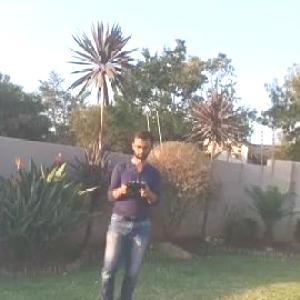follow: (90, 125, 166, 299)
